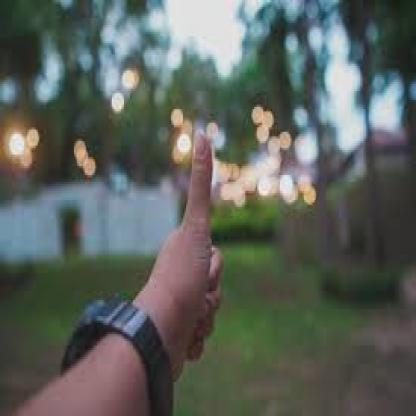thumb_up: (157, 125, 229, 369)
